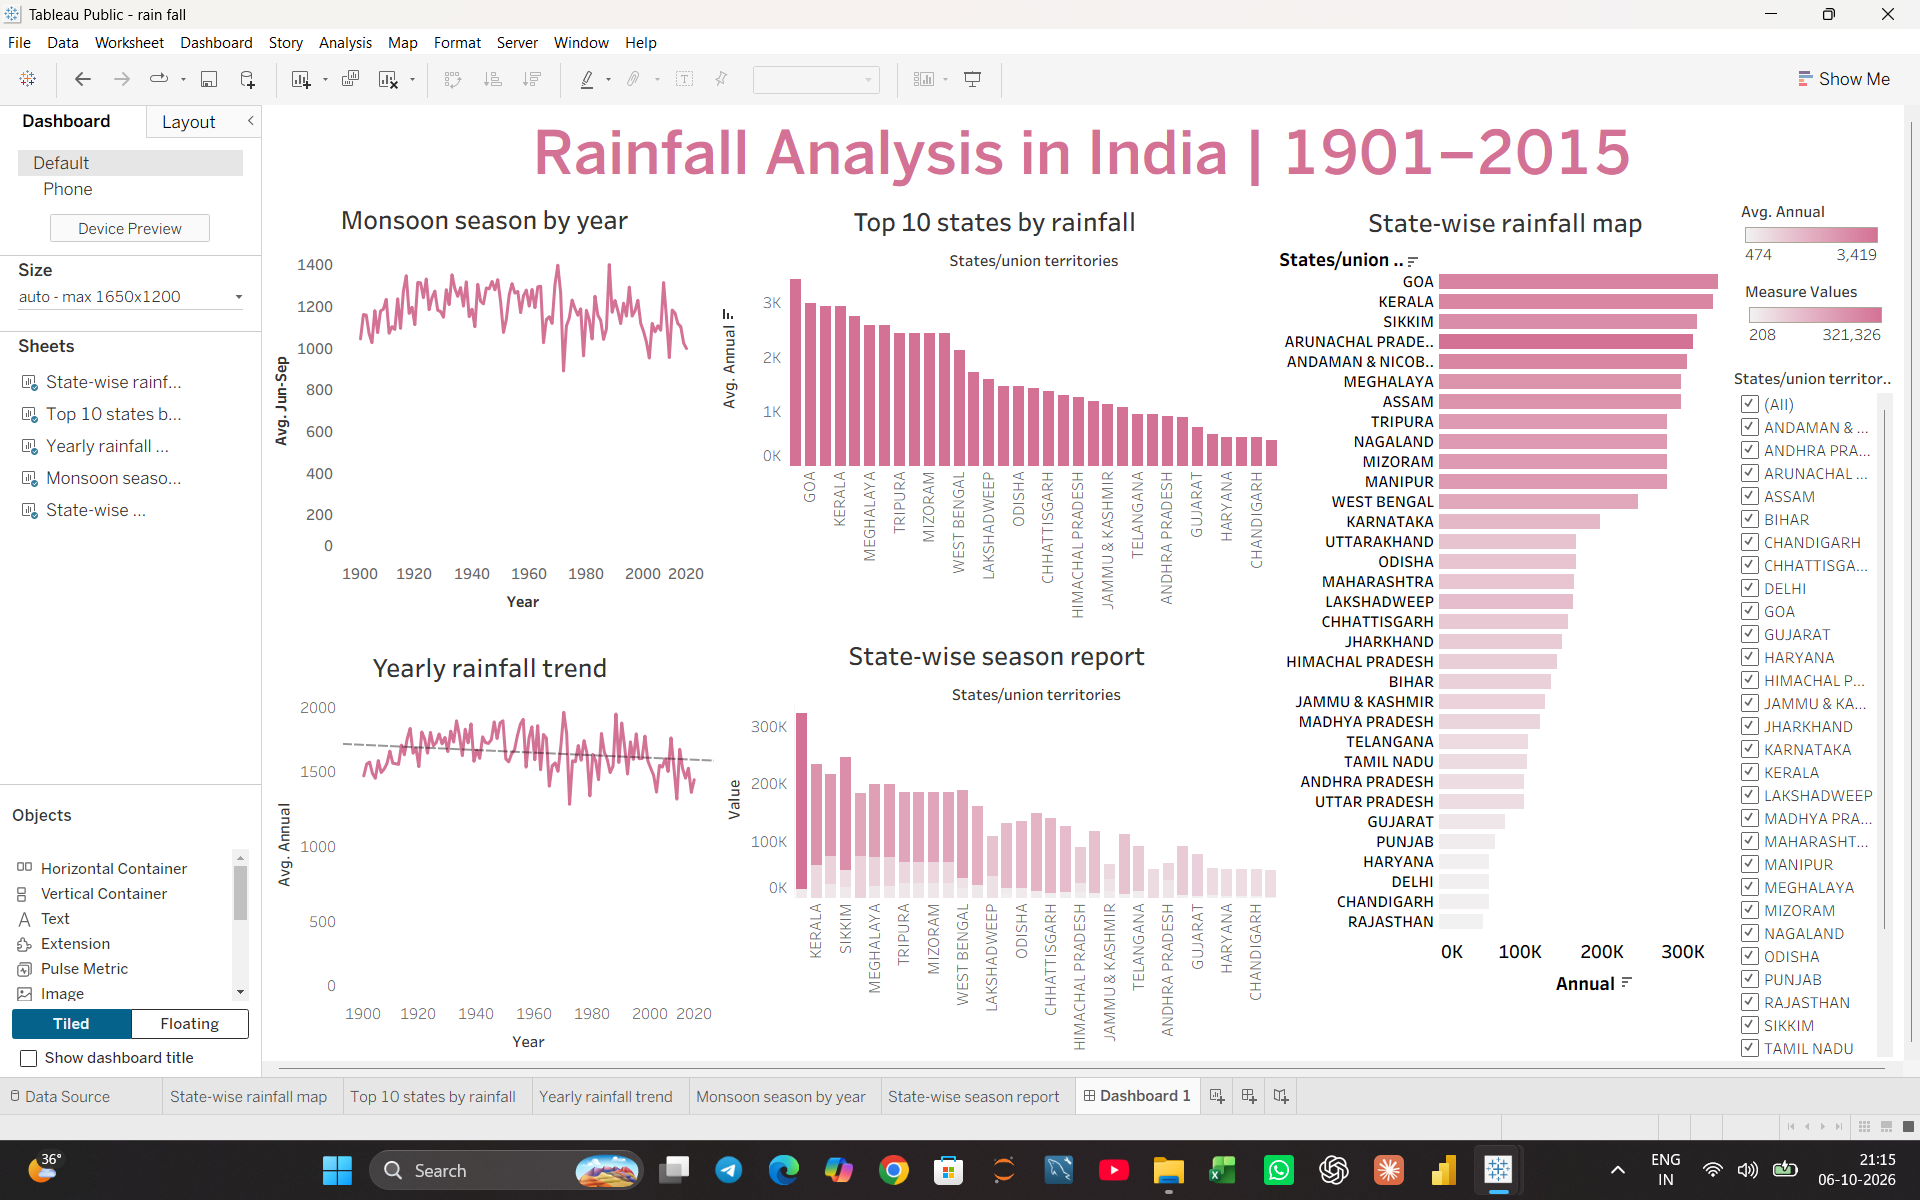

The dashboard page shown, as its layout file describes it:
{"tool":"tableau","page":{"name":"Dashboard 1","canvas":[1000,1000],"units":"permille","ordinal":0},"visuals":[{"type":"text","box":[4.9,8.2,990.2,83.4]},{"type":"legend","title":"State-wise rainfall map","param":"[federated.0dsjk2n197mkpr163tci71xcstm7].[avg:ANNUAL:qk]","box":[901.9,22.7,85.8,69]},{"type":"worksheet","title":"Monsoon season by year","mark":"Automatic","rows":["Jun-Sep"],"cols":["YEAR"],"box":[0.6,97.4,269.7,440.8]},{"type":"worksheet","title":"Top 10 states by rainfall","mark":"Automatic","rows":["ANNUAL"],"cols":["States/union territories"],"box":[273.3,99.5,346.1,446.1]},{"type":"worksheet","title":"State-wise rainfall map","mark":"Automatic","rows":["States/union territories"],"cols":["ANNUAL"],"box":[620,100.5,275.8,894.2]},{"type":"legend","title":"State-wise season report","param":"[federated.0dsjk2n197mkpr163tci71xcstm7].[Multiple Values]","box":[904.4,110.2,85.8,75.2]},{"type":"filter","title":"State-wise rainfall map","param":"[federated.0dsjk2n197mkpr163tci71xcstm7].[none:States/union territories:nk]","box":[897,207,96.9,789.9]},{"type":"worksheet","title":"State-wise season report","mark":"Automatic","cols":["States/union territories"],"box":[276.5,554.1,342.7,443.9]},{"type":"worksheet","title":"Yearly rainfall trend","mark":"Automatic","rows":["ANNUAL"],"cols":["YEAR"],"box":[2.5,566.4,272.8,432.5]}]}

Visuals, with their boxes on the dashboard's canvas, which has no fixed pixel size, in thousandths of its width and height (x1, y1, x2, y2). These are canvas units, not pixel positions in the 1920x1200 screenshot, which may show the page scaled, cropped or inside an application window:
text: {"left": 5, "top": 8, "right": 995, "bottom": 92}
"State-wise rainfall map" legend: {"left": 902, "top": 23, "right": 988, "bottom": 92}
"Monsoon season by year" worksheet: {"left": 1, "top": 97, "right": 270, "bottom": 538}
"Top 10 states by rainfall" worksheet: {"left": 273, "top": 100, "right": 619, "bottom": 546}
"State-wise rainfall map" worksheet: {"left": 620, "top": 100, "right": 896, "bottom": 995}
"State-wise season report" legend: {"left": 904, "top": 110, "right": 990, "bottom": 185}
"State-wise rainfall map" filter: {"left": 897, "top": 207, "right": 994, "bottom": 997}
"State-wise season report" worksheet: {"left": 276, "top": 554, "right": 619, "bottom": 998}
"Yearly rainfall trend" worksheet: {"left": 2, "top": 566, "right": 275, "bottom": 999}
